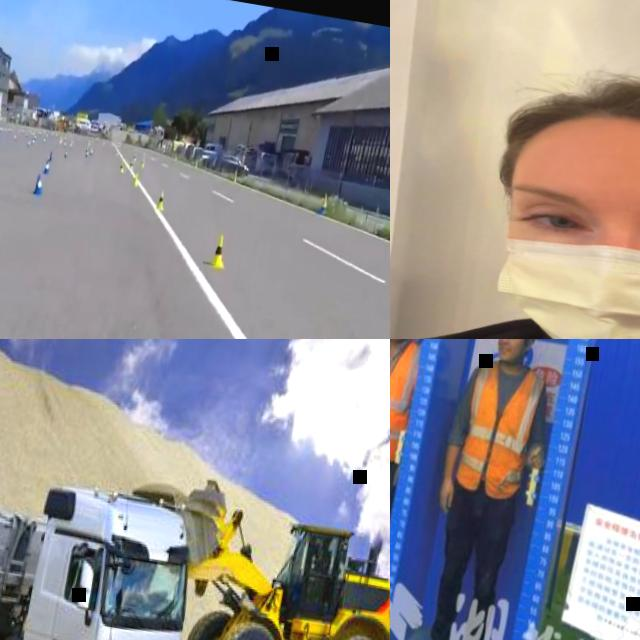Mask: (477, 218, 640, 339)
NO-Hardhat: (495, 69, 640, 205)
NO-Mask: (497, 339, 526, 363)
Person: (390, 34, 640, 339), (409, 339, 569, 640), (390, 339, 434, 636)
Safety Cone: (208, 229, 230, 270), (32, 171, 46, 197), (154, 188, 168, 213), (318, 194, 329, 216), (130, 169, 140, 189), (42, 159, 51, 174), (118, 160, 125, 175), (232, 168, 238, 184), (140, 156, 146, 169), (193, 158, 199, 170), (128, 160, 134, 172), (88, 146, 94, 157), (84, 148, 90, 159), (63, 149, 68, 160), (26, 141, 30, 151), (173, 154, 177, 162)
Safety Vest: (454, 358, 548, 505), (390, 339, 423, 465)
vehicle: (98, 459, 390, 640), (0, 436, 205, 640)
